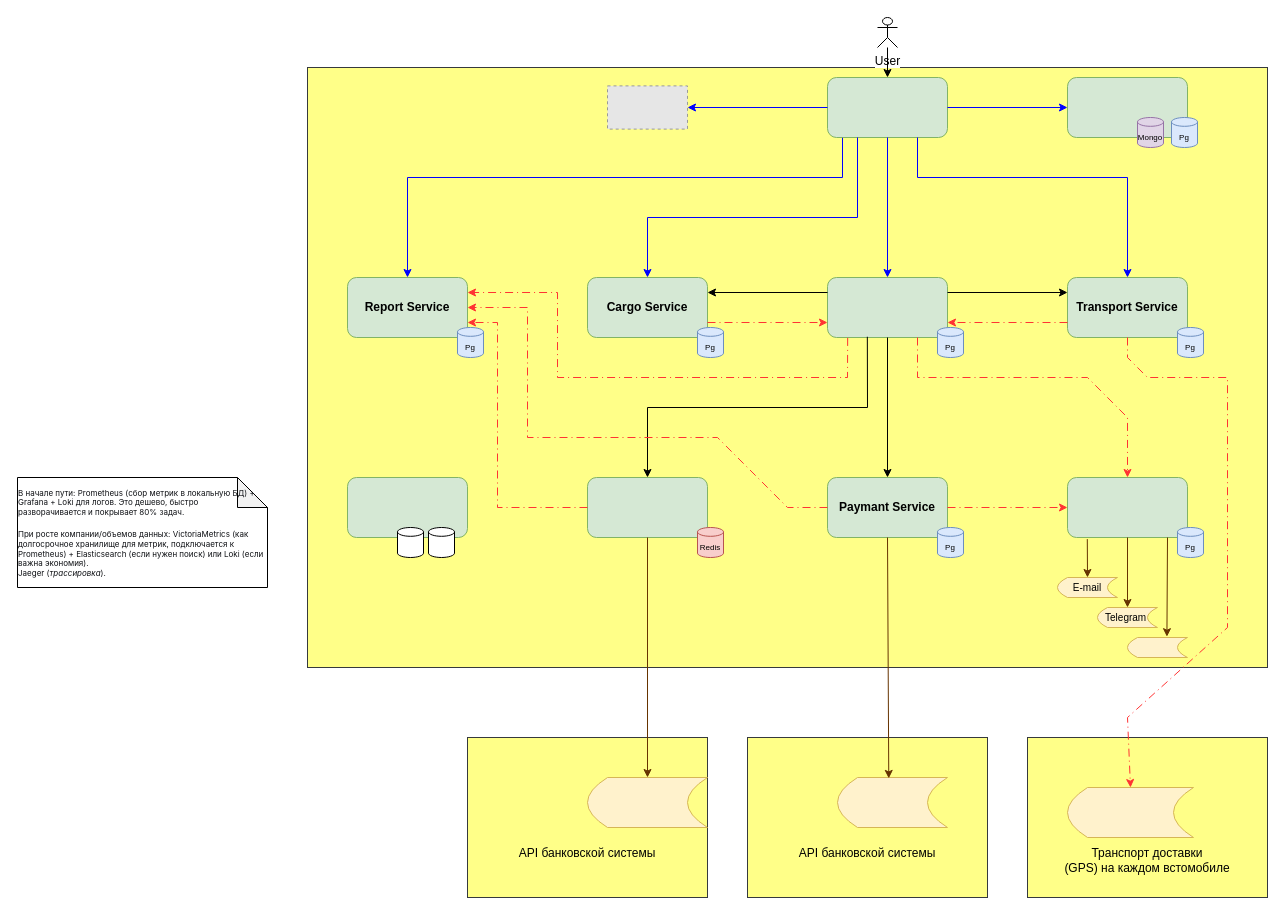
Image size: 1285x915. Some labels were removed from this diagram. Grey dashed boxes stand in for pictures. The box of each missing label's shape, as (x1, y1, x2, y2) in pixels:
API Getway: (826, 76, 948, 138)
Cost Calculation Service: (586, 476, 708, 538)
Delivery Service: (826, 276, 948, 338)
GPS -трэкинг транспорта доставок: (1066, 786, 1194, 838)
Monitoring Service: (346, 476, 468, 538)
Notification Service: (1066, 476, 1188, 538)
SMS: (1126, 636, 1188, 658)
User Service: (1066, 76, 1188, 138)
Актуализация ценовых ставок, курсов валют: (586, 776, 708, 828)
Банковская система проведения платежей: (836, 776, 948, 828)
